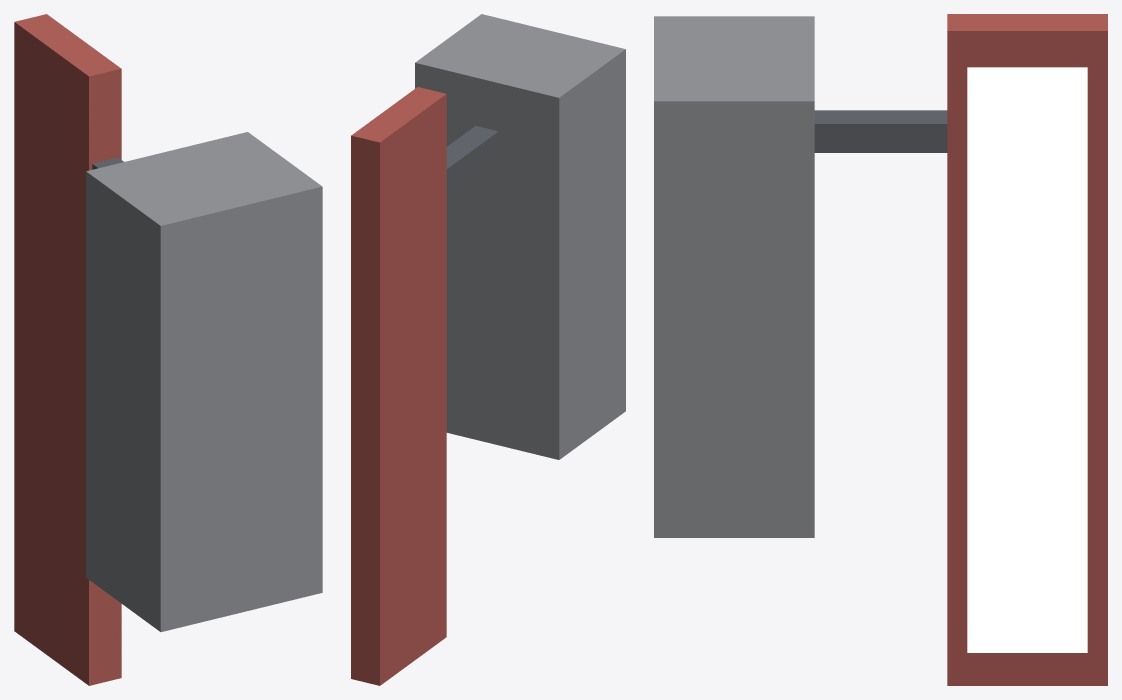
The model's file is prop_kanban_sode_vert_red.glb.
3 renders of one model, left to right at view 1: azimuth 30°, elevation 25°; view 2: azimuth 150°, elevation 25°; view 3: azimuth 270°, elevation 25°, orthographic. The views are drawn at different scales.
Visible parts, largest first — view 1: kanban_sode_vert_red; view 2: kanban_sode_vert_red; view 3: kanban_sode_vert_red.
Boxes of the visible parts, x1,y1,x2,y2 form: kanban_sode_vert_red: (14,14,322,685); kanban_sode_vert_red: (351,14,625,685); kanban_sode_vert_red: (654,14,1107,685).
Size of the model in its own units: 0.5 by 1.8 by 1.13.
